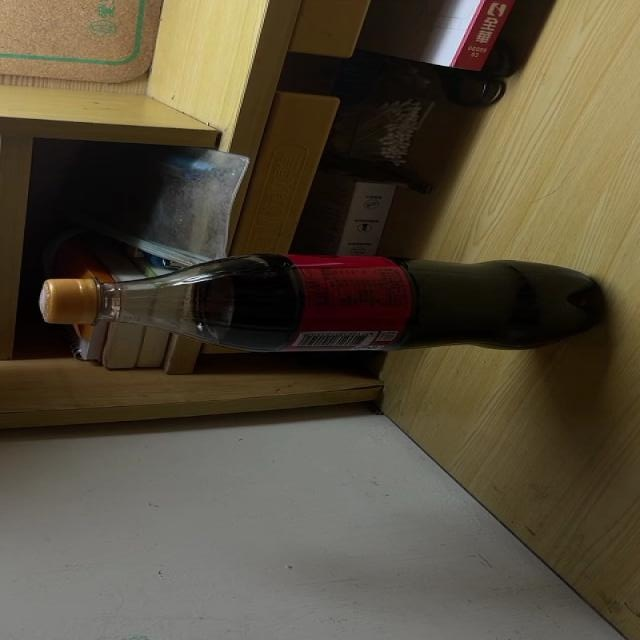Coca-Cola: (40, 256, 603, 349)
